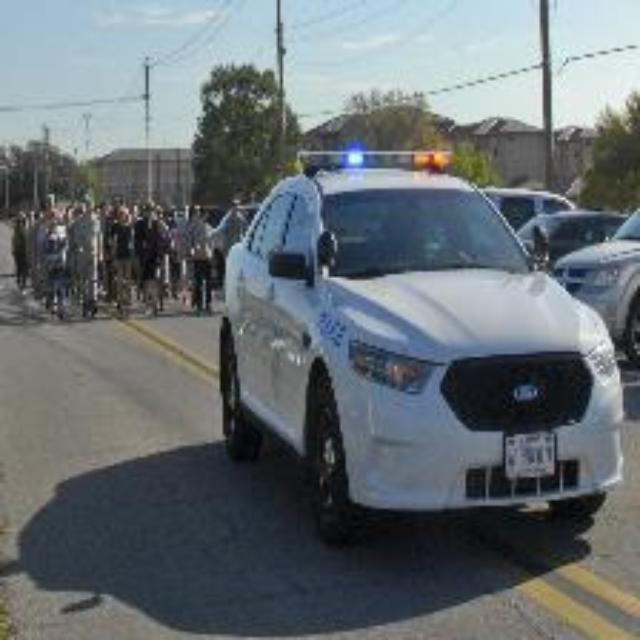emergency: (215, 154, 620, 546)
